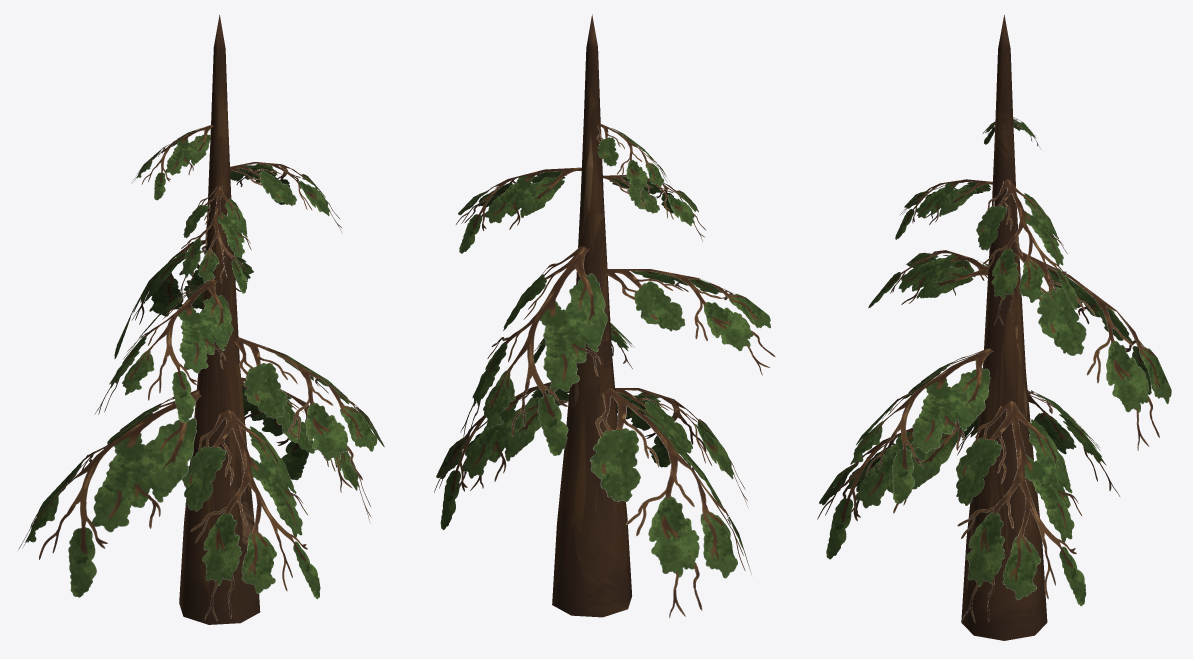
Rendered from tree1.fbx.
The picture shows the model from 3 angles, left to right: view 1: azimuth 30°, elevation 25°; view 2: azimuth 150°, elevation 25°; view 3: azimuth 270°, elevation 25°; orthographic projection. The views are drawn at different scales.
Parts seen in each view (by area): view 1: pCylinder1, pPlane4, pPlane8, pPlane6, pPlane5, pPlane7, pPlane3, pPlane1, pPlane2, pPlane9; view 2: pCylinder1, pPlane1, pPlane4, pPlane6, pPlane3, pPlane2, pPlane8, pPlane7, pPlane9; view 3: pCylinder1, pPlane3, pPlane1, pPlane5, pPlane2, pPlane8, pPlane6, pPlane7, pPlane4.
Boxes of the visible parts, left/top/right/bottom form: pCylinder1: left=179, top=15, right=260, bottom=624; pPlane4: left=18, top=389, right=201, bottom=597; pPlane8: left=182, top=410, right=320, bottom=621; pPlane6: left=94, top=278, right=233, bottom=422; pPlane5: left=234, top=337, right=384, bottom=492; pPlane7: left=177, top=185, right=251, bottom=296; pPlane3: left=241, top=377, right=371, bottom=523; pPlane1: left=114, top=240, right=253, bottom=358; pPlane2: left=230, top=162, right=342, bottom=233; pPlane9: left=132, top=125, right=213, bottom=200; pCylinder1: left=552, top=14, right=632, bottom=617; pPlane1: left=460, top=246, right=607, bottom=455; pPlane4: left=590, top=388, right=751, bottom=618; pPlane6: left=606, top=269, right=775, bottom=375; pPlane3: left=434, top=382, right=569, bottom=530; pPlane2: left=456, top=167, right=581, bottom=253; pPlane8: left=615, top=388, right=748, bottom=508; pPlane7: left=603, top=175, right=706, bottom=241; pPlane9: left=596, top=123, right=667, bottom=206; pCylinder1: left=961, top=15, right=1047, bottom=640; pPlane3: left=956, top=400, right=1086, bottom=622; pPlane1: left=1016, top=251, right=1171, bottom=450; pPlane5: left=850, top=348, right=993, bottom=503; pPlane2: left=976, top=178, right=1077, bottom=324; pPlane8: left=817, top=420, right=968, bottom=559; pPlane6: left=868, top=250, right=988, bottom=308; pPlane7: left=895, top=179, right=992, bottom=239; pPlane4: left=957, top=390, right=1119, bottom=496.
Size of the model in its own units: 13.75 by 23.85 by 13.13.
